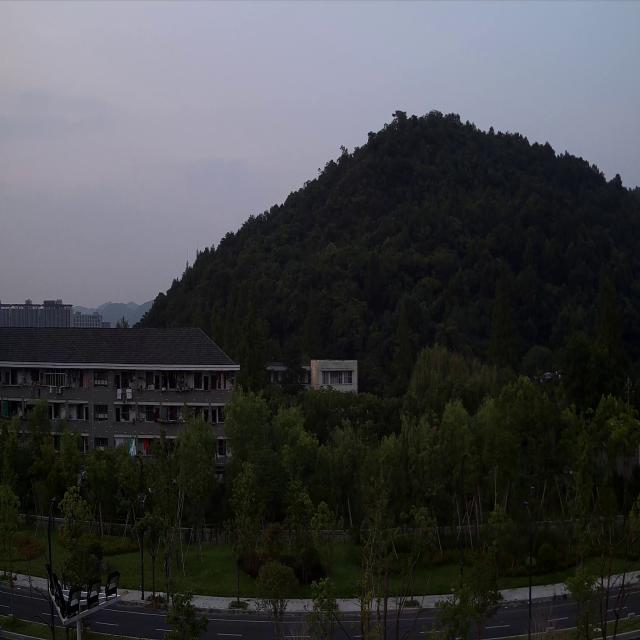UAV: (530, 369, 566, 383)
